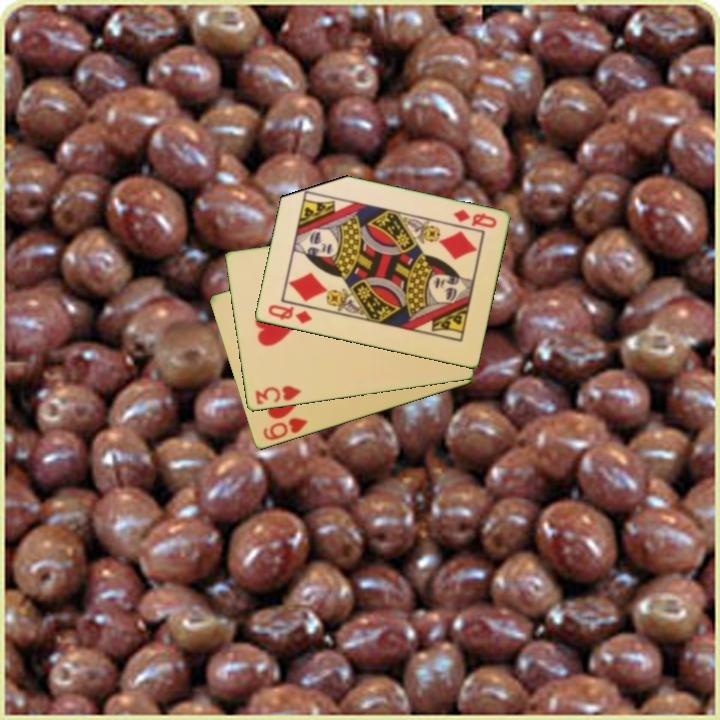3h: (251, 382, 304, 408)
6h: (259, 414, 310, 444)
Qd: (264, 301, 315, 327), (449, 206, 499, 231)
